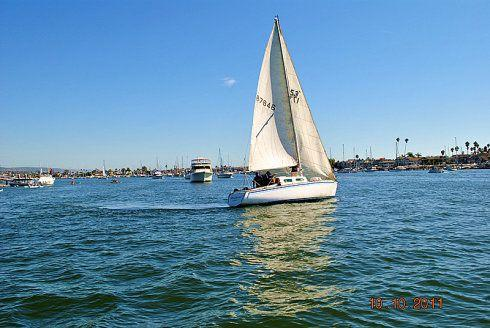fanchuan: (225, 11, 346, 209)
youlun: (189, 152, 217, 186)
